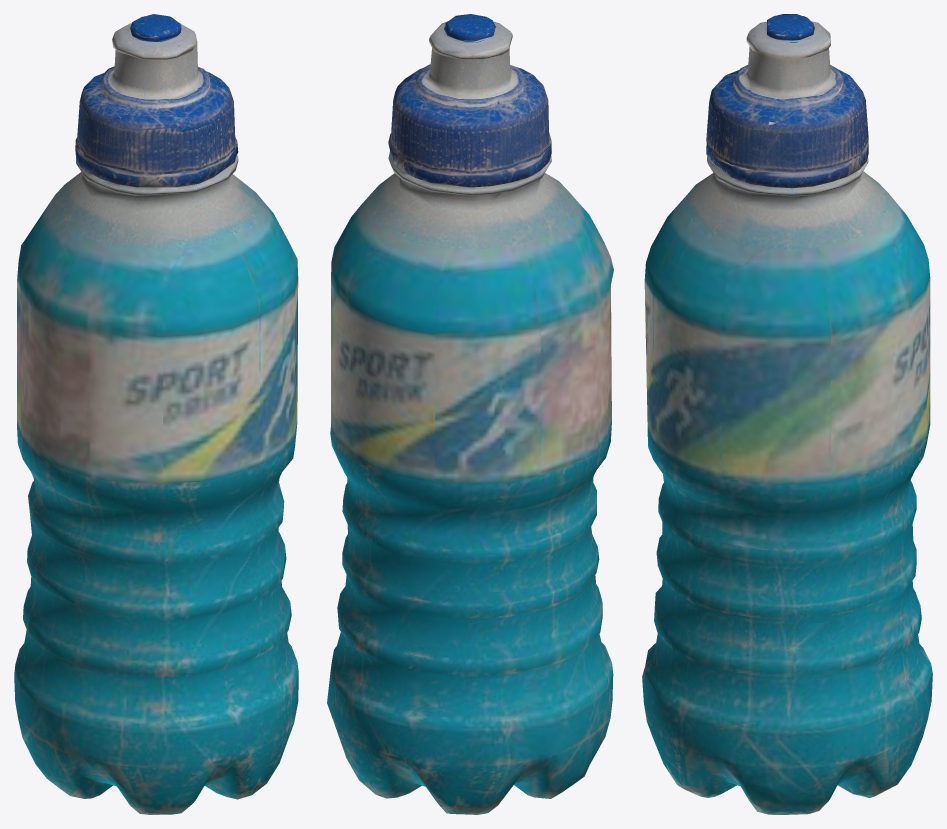
File: food-sports-drink.glb
The picture shows the model from 3 angles, left to right: view 1: azimuth 30°, elevation 25°; view 2: azimuth 150°, elevation 25°; view 3: azimuth 270°, elevation 25°; orthographic projection.
Visible parts, largest first — view 1: food-sports-drink; view 2: food-sports-drink; view 3: food-sports-drink.
Part boxes in pixels (<box>): food-sports-drink: <box>14,14,298,814</box>; food-sports-drink: <box>327,14,613,814</box>; food-sports-drink: <box>642,14,932,814</box>.
Bounding box in the file's own units: 0.0793 × 0.23 × 0.0809.
1 material, 1 textured.
